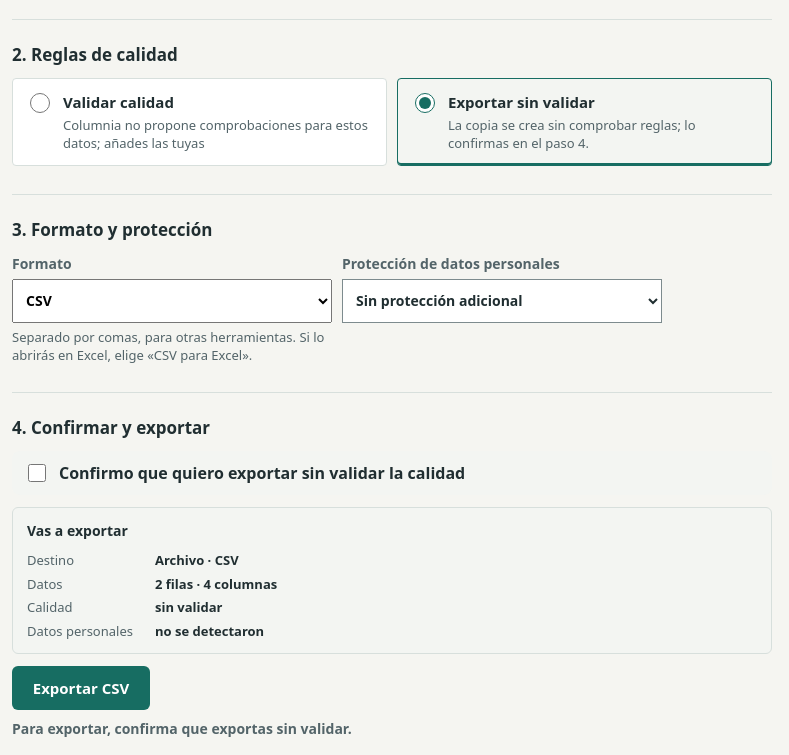
Test: compuerta de calidad y editor de reglas (QA-11) › explica a la vista qué falta mientras exportar está deshabilitado
The width and height of the screenshot is (789, 755).
(page scrolled)
Check: the text "Para exportar, confirma que exportas sin validar." is shown, box [12,719,352,738]
Click the checkbox labelled "Confirmo que quiero exportar sin validar la calidad": (37, 473) [28,464,46,482]
(page scrolled)
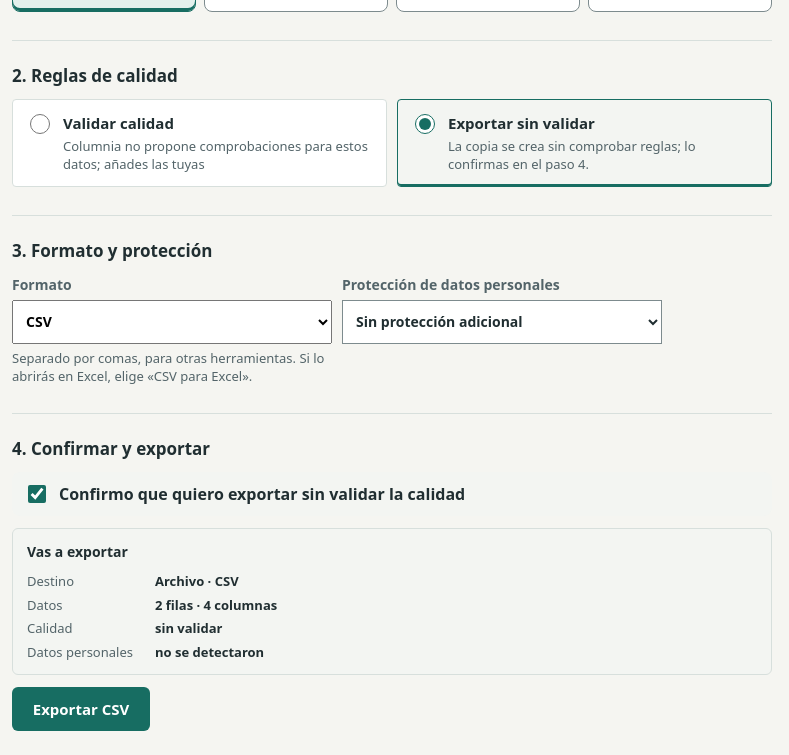
Check: the text "Para exportar," is gone
